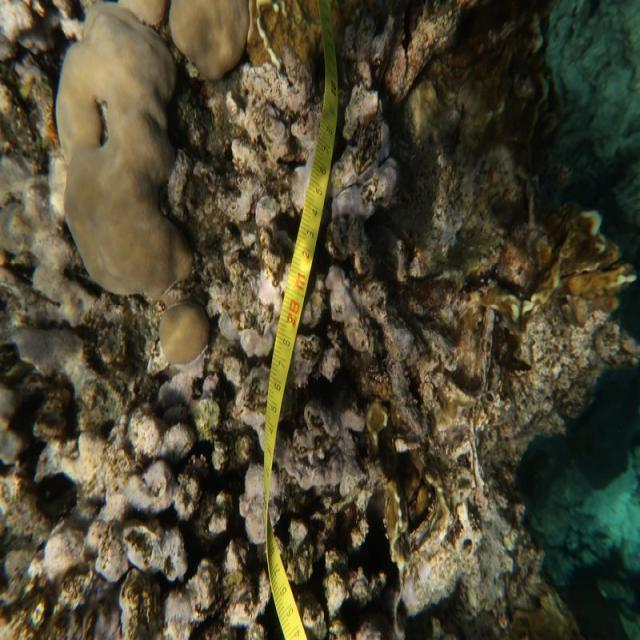Healthy Coral: (54, 0, 198, 292), (157, 0, 253, 94), (154, 294, 210, 390)
